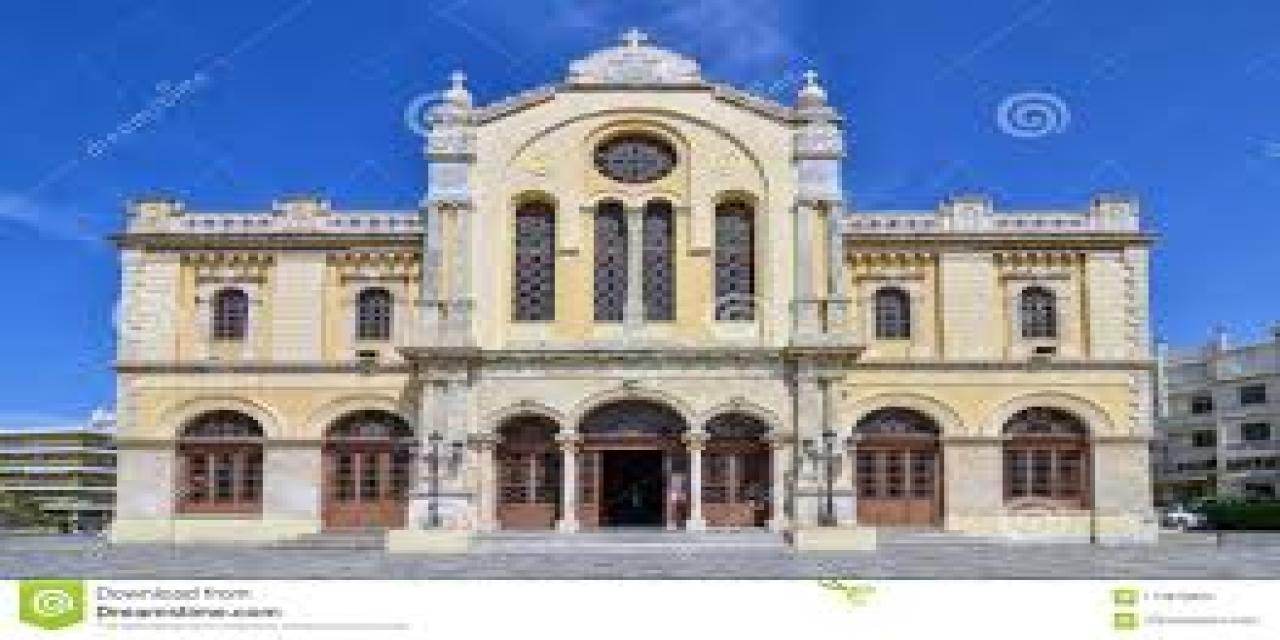Agios Minas: (123, 4, 1159, 551)
